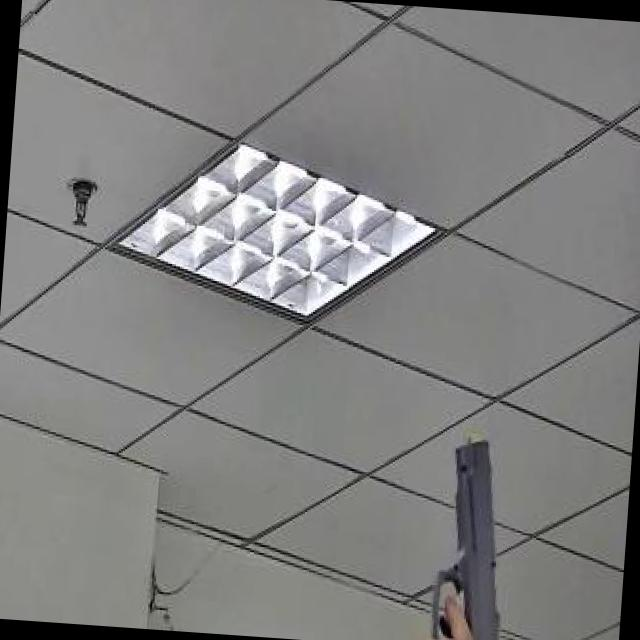Guns: (349, 395, 564, 640)
